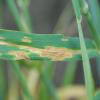Corn leaf blight: (1, 28, 99, 65)
